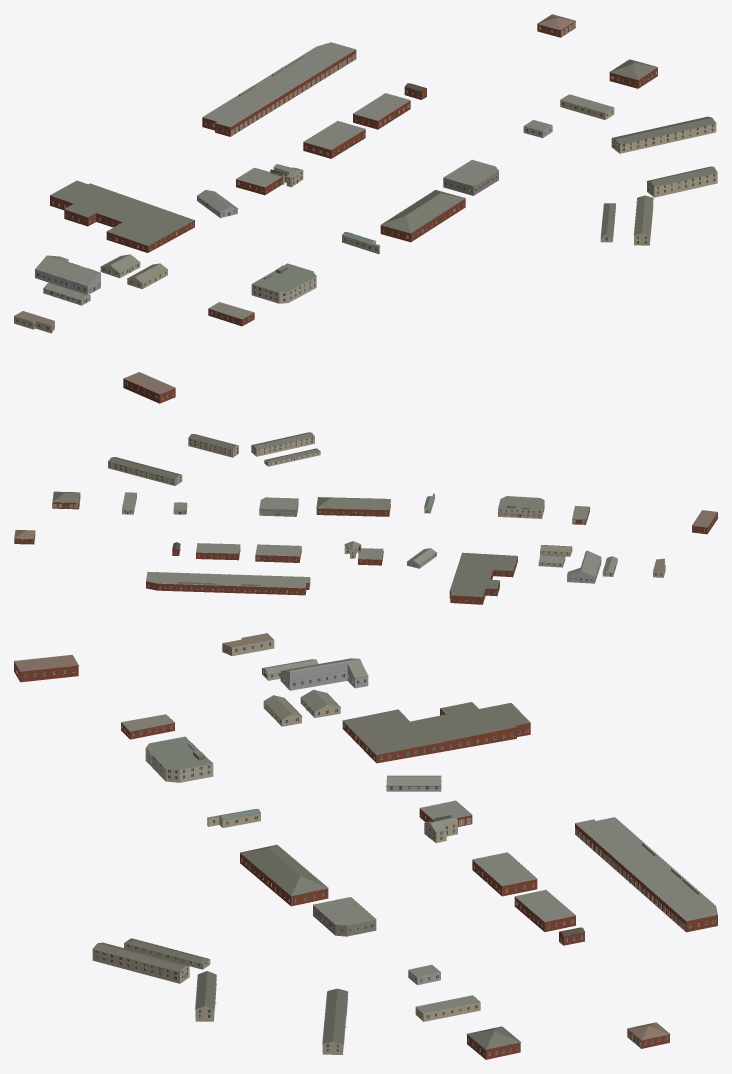
3 views of the same model, one above another, from view 1: azimuth 30°, elevation 25°; view 2: azimuth 150°, elevation 25°; view 3: azimuth 270°, elevation 25° (orthographic). The views are drawn at different scales.
Parts seen in each view (by area): view 1: -7_0_270367462_1, -7_0_270473962_6, -7_0_270367464_3, -7_0_270367463_2; view 2: -7_0_270367462_1, -7_0_270473962_6, -7_0_270367464_3, -7_0_270367463_2; view 3: -7_0_270367462_1, -7_0_270473962_6, -7_0_270367464_3, -7_0_270367463_2, -7_0_305805017_70.
Part boxes in pixels (<box>): -7_0_270367462_1: <box>14,14,717,399</box>; -7_0_270473962_6: <box>50,21,657,403</box>; -7_0_270367464_3: <box>35,125,552,294</box>; -7_0_270367463_2: <box>43,29,568,305</box>; -7_0_270367462_1: <box>14,432,717,602</box>; -7_0_270473962_6: <box>14,494,717,604</box>; -7_0_270367464_3: <box>173,504,601,583</box>; -7_0_270367463_2: <box>64,501,617,576</box>; -7_0_270367462_1: <box>14,633,717,1056</box>; -7_0_270473962_6: <box>14,661,717,1059</box>; -7_0_270367464_3: <box>280,663,441,985</box>; -7_0_270367463_2: <box>145,668,634,1042</box>; -7_0_305805017_70: <box>313,905,376,936</box>.
Bounding box in the file's own units: 503 × 19.17 × 360.
